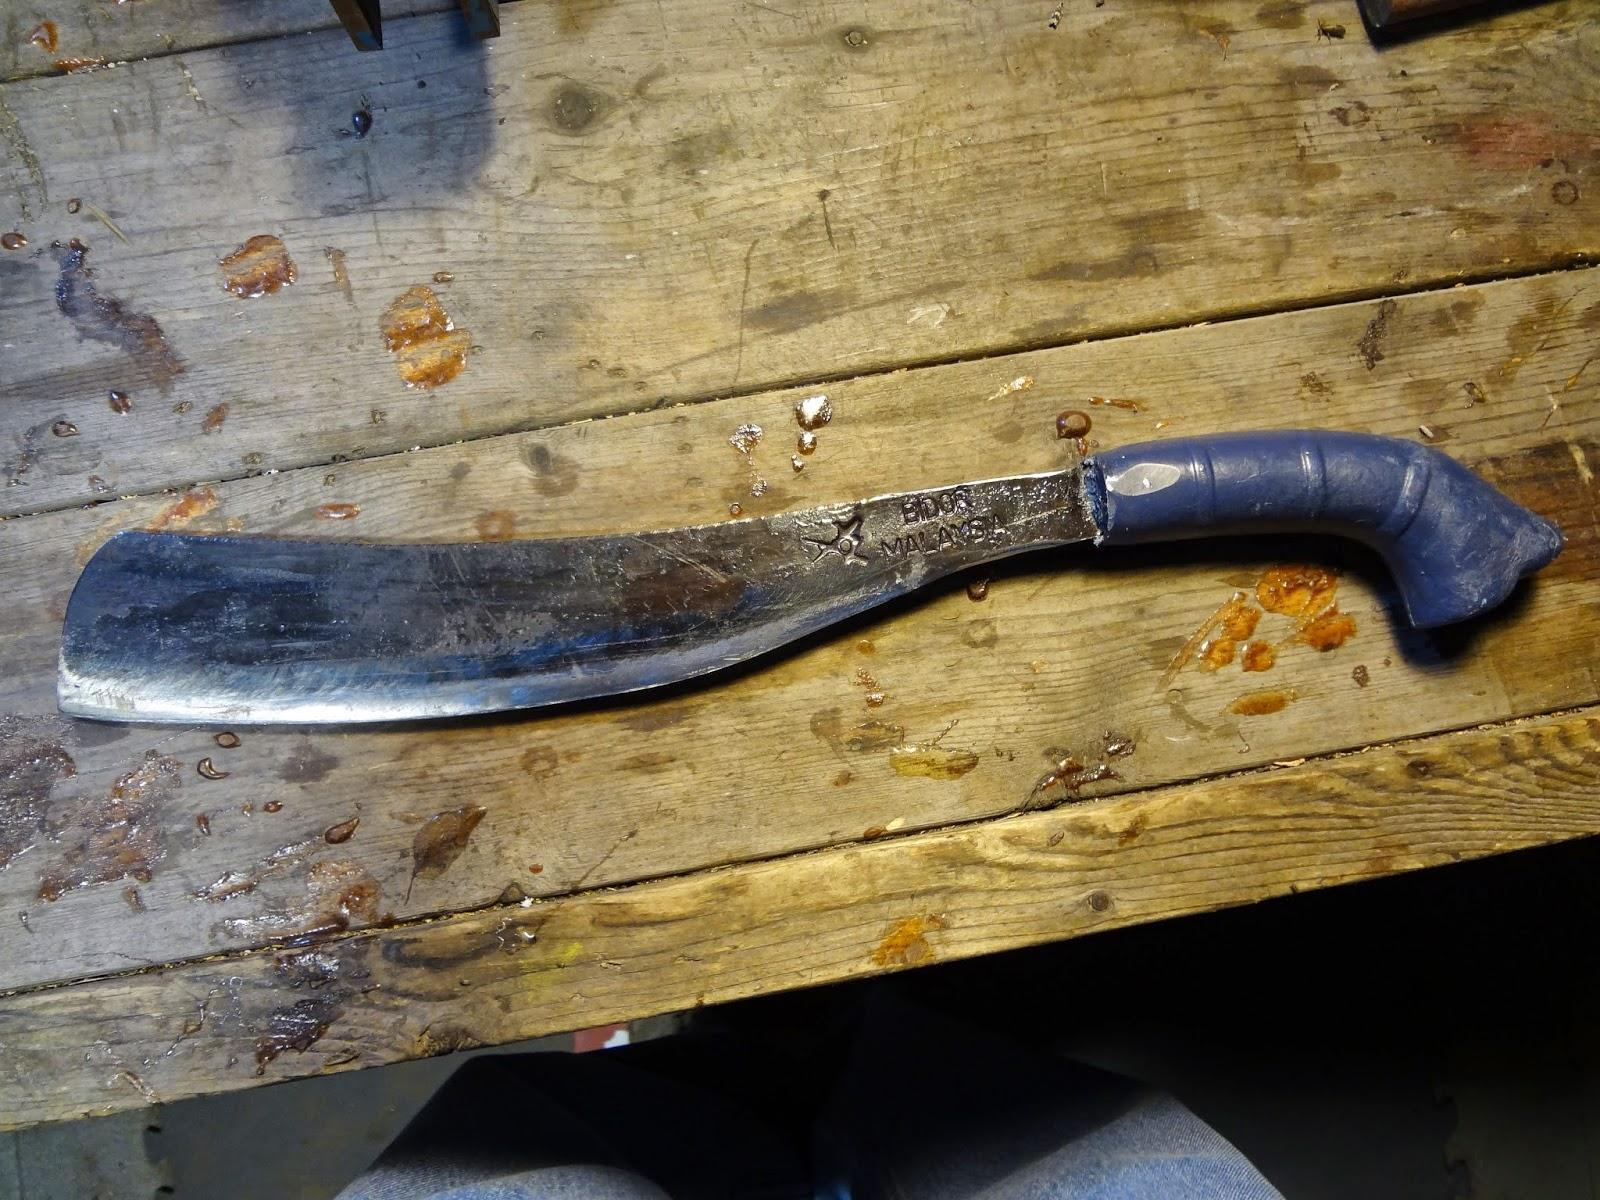facao: (50, 420, 1573, 713)
